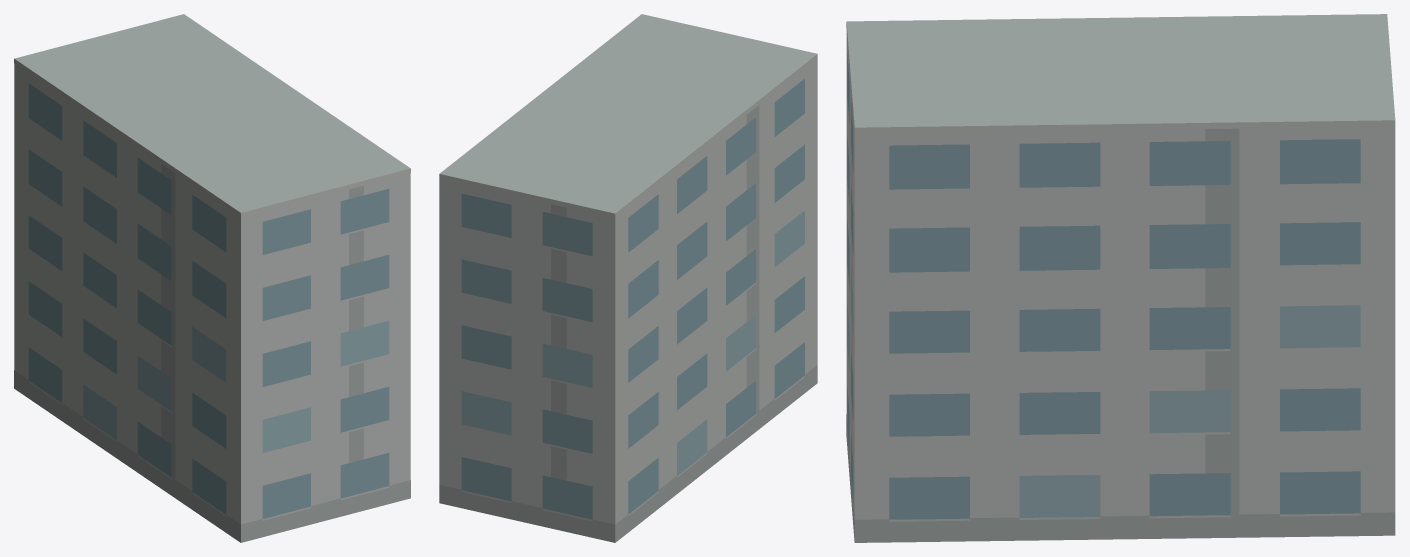
The model's file is survey-upis-32935368.glb.
3 views of the same model, side by side, from view 1: azimuth 30°, elevation 25°; view 2: azimuth 150°, elevation 25°; view 3: azimuth 270°, elevation 25° (orthographic). The views are drawn at different scales.
Visible parts, largest first — view 1: survey-upis-32935368.tmp; view 2: survey-upis-32935368.tmp; view 3: survey-upis-32935368.tmp.
Boxes of the visible parts, x1=… form: survey-upis-32935368.tmp: x1=14, y1=14, x2=410, y2=542; survey-upis-32935368.tmp: x1=439, y1=14, x2=817, y2=542; survey-upis-32935368.tmp: x1=846, y1=14, x2=1395, y2=542.
Size of the model in its own units: 9.46 by 16.1 by 19.29.
